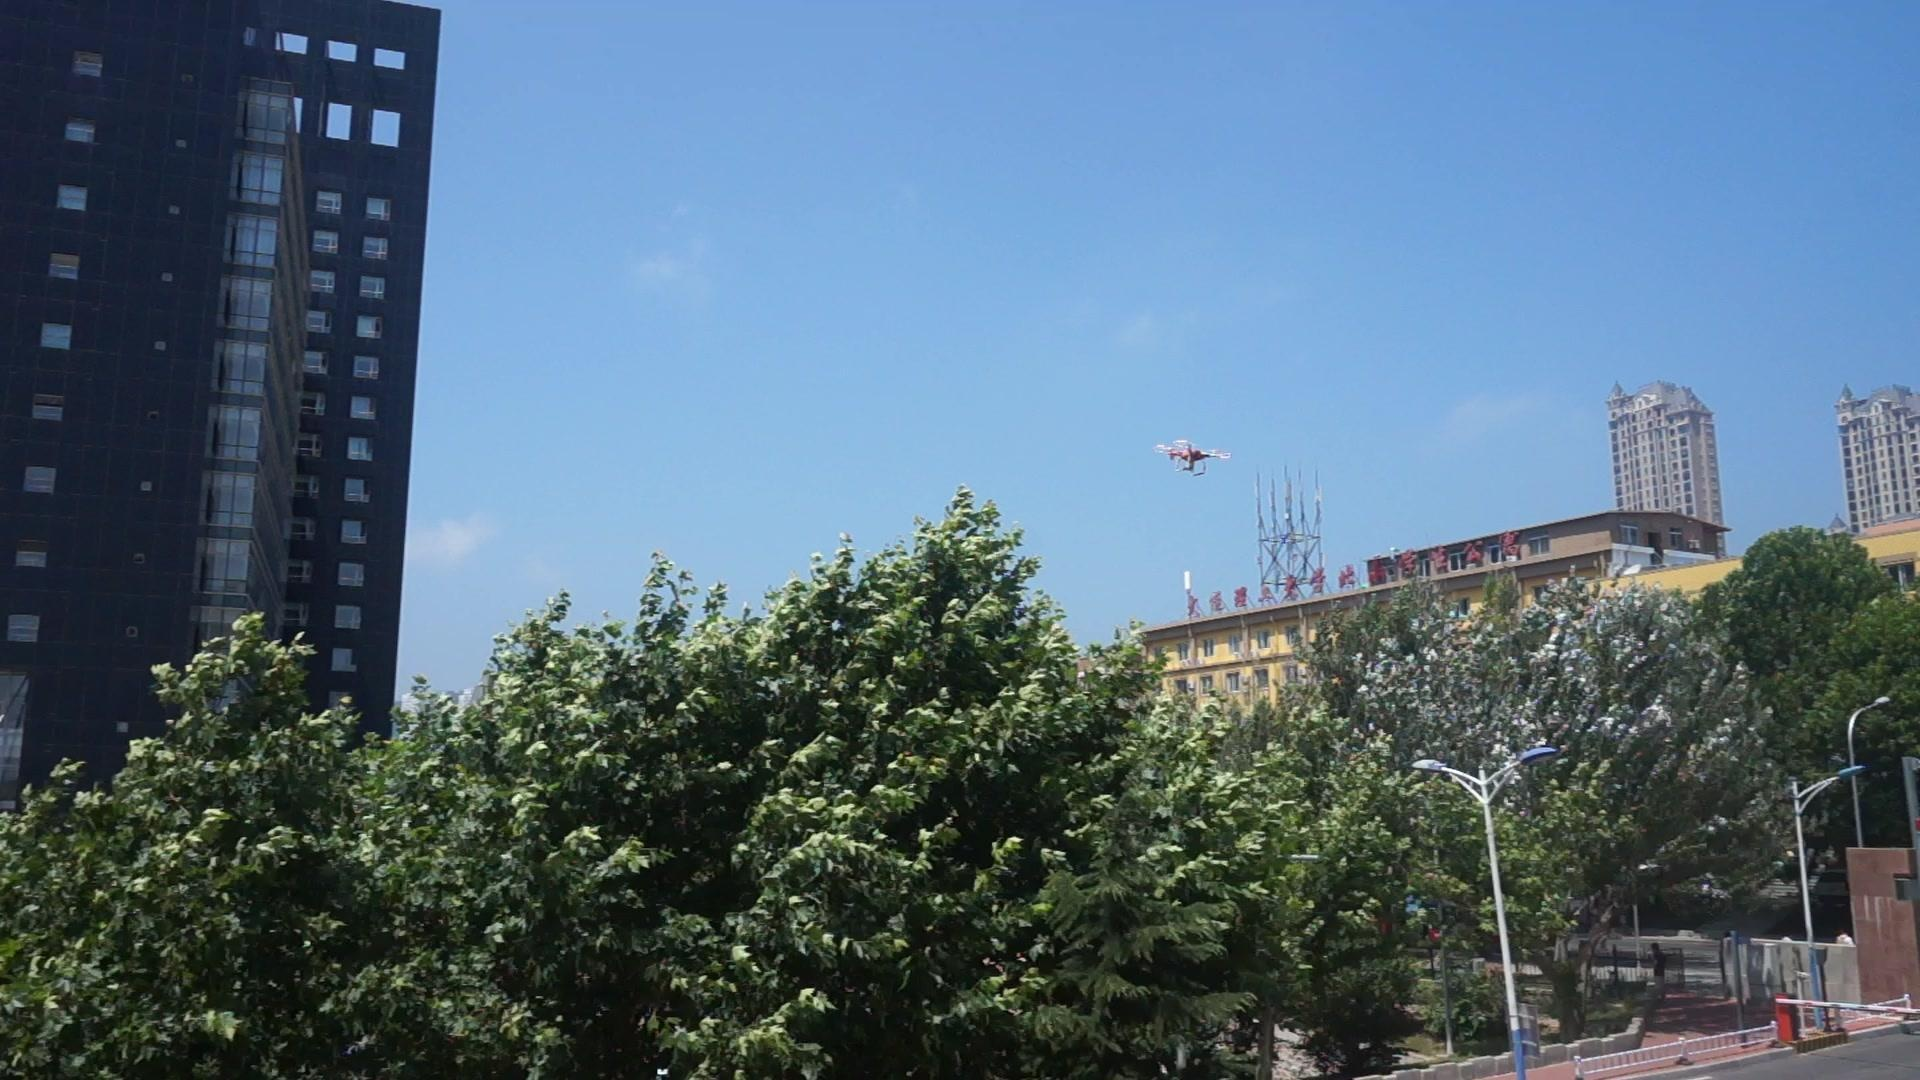UAV: (1155, 440, 1233, 477)
